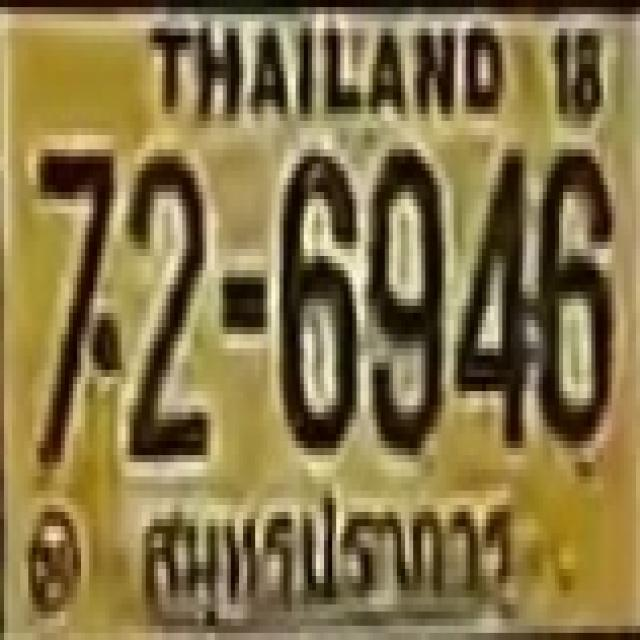2: (123, 142, 204, 455)
4: (454, 142, 526, 441)
6: (532, 139, 610, 437), (280, 142, 352, 441)
7: (36, 138, 114, 458)
9: (366, 142, 439, 448)
SPK: (130, 482, 525, 638)
